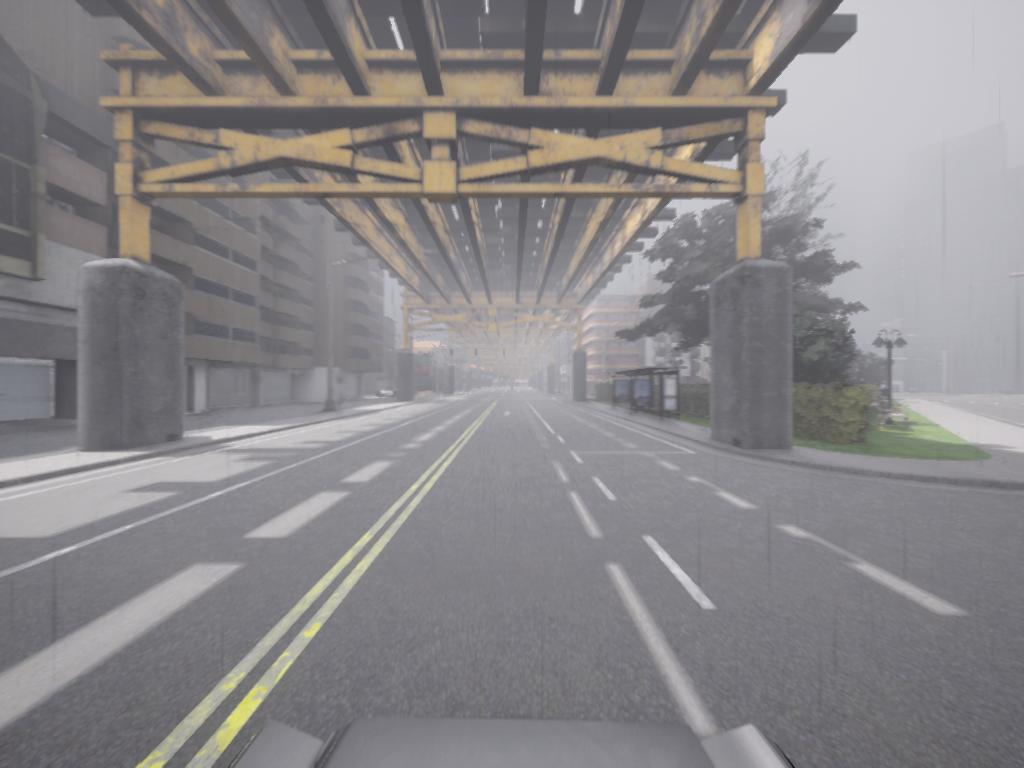traffic_light: (475, 349, 479, 359), (450, 350, 455, 358), (520, 359, 523, 369), (504, 350, 507, 359)
